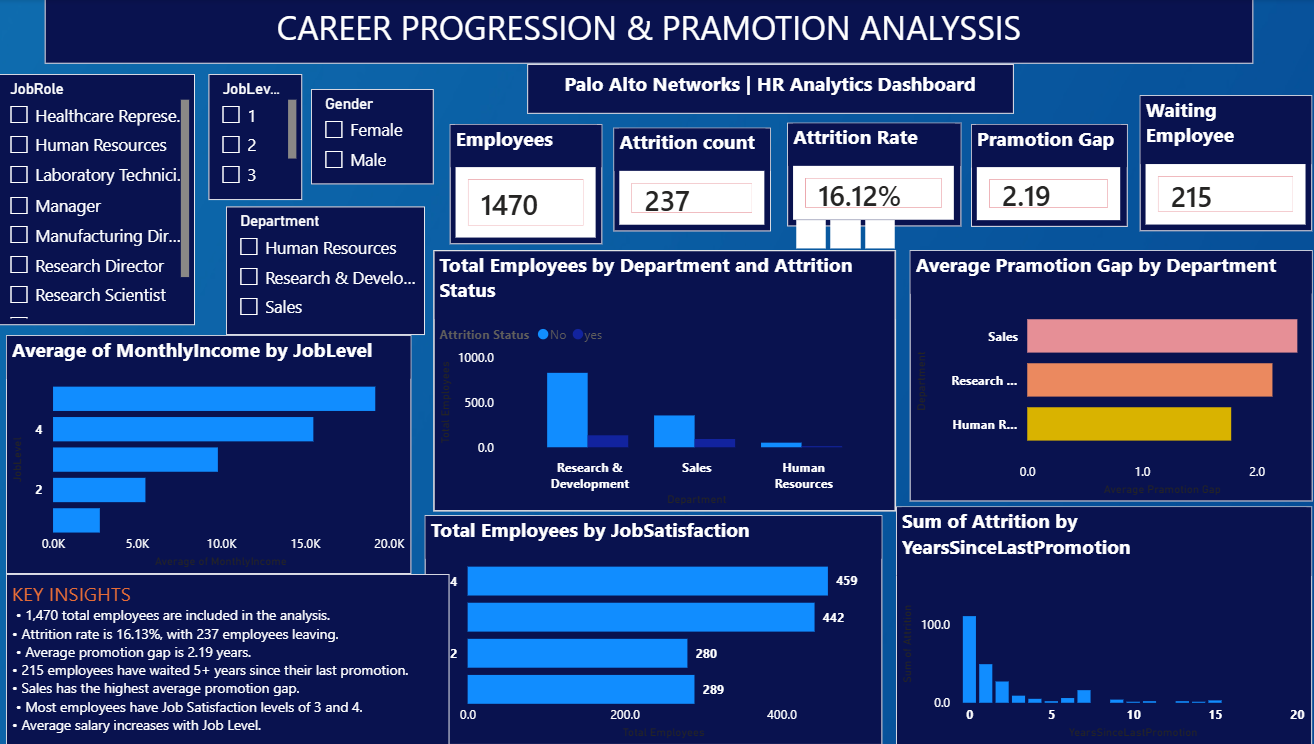

The dashboard page shown, as its layout file describes it:
{"tool":"powerbi","page":{"name":"Page 1","canvas":[1280,720],"ordinal":0},"visuals":[{"type":"cardVisual","title":"Employees","fields":{"Data":["Palo Alto Networks.Total Employees"]},"box":[437.9,120.6,147.2,115.8],"z":0},{"type":"cardVisual","title":"Attrition count","fields":{"Data":["Palo Alto Networks.Attrition Count"]},"box":[596,124.3,152,100.1],"z":1000},{"type":"cardVisual","title":"Attrition Rate","fields":{"Data":["Palo Alto Networks.Attrition Rate"]},"box":[763.7,119.4,167.7,100.1],"z":2000},{"type":"cardVisual","title":"Pramotion Gap","fields":{"Data":["Palo Alto Networks.Average Pramotion Gap"]},"box":[941,120.6,150.8,98.9],"z":3000},{"type":"cardVisual","title":"Waiting Employee","fields":{"Data":["Palo Alto Networks.Employees Waiting >5 years"]},"box":[1103.9,92.9,166.5,131.5],"z":4000},{"type":"clusteredBarChart","fields":{"Y":["Palo Alto Networks.Average Pramotion Gap"],"Category":["Palo Alto Networks.Department"]},"box":[881.9,242.5,388.5,242.5],"z":5000},{"type":"clusteredColumnChart","fields":{"Category":["Palo Alto Networks.Department"],"Y":["Palo Alto Networks.Total Employees"],"Series":["Palo Alto Networks.Attrition Status"]},"box":[422.3,242.5,446.4,252.1],"z":6000},{"type":"barChart","fields":{"Category":["Palo Alto Networks.JobLevel"],"Y":["Avg(Palo Alto Networks.MonthlyIncome)"]},"box":[9.7,324.5,390.9,230.4],"z":7000},{"type":"barChart","fields":{"Category":["Palo Alto Networks.JobSatisfaction"],"Y":["Palo Alto Networks.Total Employees"]},"box":[413.8,498.3,441.6,222],"z":8000},{"type":"columnChart","fields":{"Category":["Palo Alto Networks.YearsSinceLastPromotion"],"Y":["Sum(Palo Alto Networks.Attrition)"]},"box":[868.6,489.8,401.7,230.4],"z":9000},{"type":"slicer","fields":{"Values":["Palo Alto Networks.Department"]},"box":[222,200.3,191.8,124.3],"z":10000},{"type":"slicer","fields":{"Values":["Palo Alto Networks.JobRole"]},"box":[0,62.7,195.4,261.8],"z":11000},{"type":"slicer","fields":{"Values":["Palo Alto Networks.JobLevel"]},"box":[205.1,72.4,90.5,121.9],"z":12000},{"type":"slicer","fields":{"Values":["Palo Alto Networks.Gender"]},"box":[304,86.9,118.2,91.7],"z":13000},{"type":"textbox","box":[44.6,0,1169,62.7],"z":13001},{"type":"textbox","box":[512.7,62.7,469.3,48.3],"z":13002},{"type":"textbox","box":[9.7,555,428.3,165.3],"z":13003}]}

Visuals, with their boxes in screenshot pixels (x1, y1, x2, y2), scaled from the page's 1280x720 canvas onto the 1314x744 screenshot:
"Employees" cardVisual: bbox=[450, 125, 601, 244]
"Attrition count" cardVisual: bbox=[612, 128, 768, 232]
"Attrition Rate" cardVisual: bbox=[784, 123, 956, 227]
"Pramotion Gap" cardVisual: bbox=[966, 125, 1121, 227]
"Waiting Employee" cardVisual: bbox=[1133, 96, 1304, 232]
clusteredBarChart - Palo Alto Networks.Average Pramotion Gap x Palo Alto Networks.Department: bbox=[905, 251, 1304, 501]
clusteredColumnChart - Palo Alto Networks.Department x Palo Alto Networks.Total Employees: bbox=[434, 251, 892, 511]
barChart - Palo Alto Networks.JobLevel x Avg(Palo Alto Networks.MonthlyIncome): bbox=[10, 335, 411, 573]
barChart - Palo Alto Networks.JobSatisfaction x Palo Alto Networks.Total Employees: bbox=[425, 515, 878, 743]
columnChart - Palo Alto Networks.YearsSinceLastPromotion x Sum(Palo Alto Networks.Attrition): bbox=[892, 506, 1304, 743]
slicer - Palo Alto Networks.Department: bbox=[228, 207, 425, 335]
slicer - Palo Alto Networks.JobRole: bbox=[0, 65, 201, 335]
slicer - Palo Alto Networks.JobLevel: bbox=[211, 75, 303, 201]
slicer - Palo Alto Networks.Gender: bbox=[312, 90, 433, 185]
textbox: bbox=[46, 0, 1246, 65]
textbox: bbox=[526, 65, 1008, 115]
textbox: bbox=[10, 574, 450, 743]
